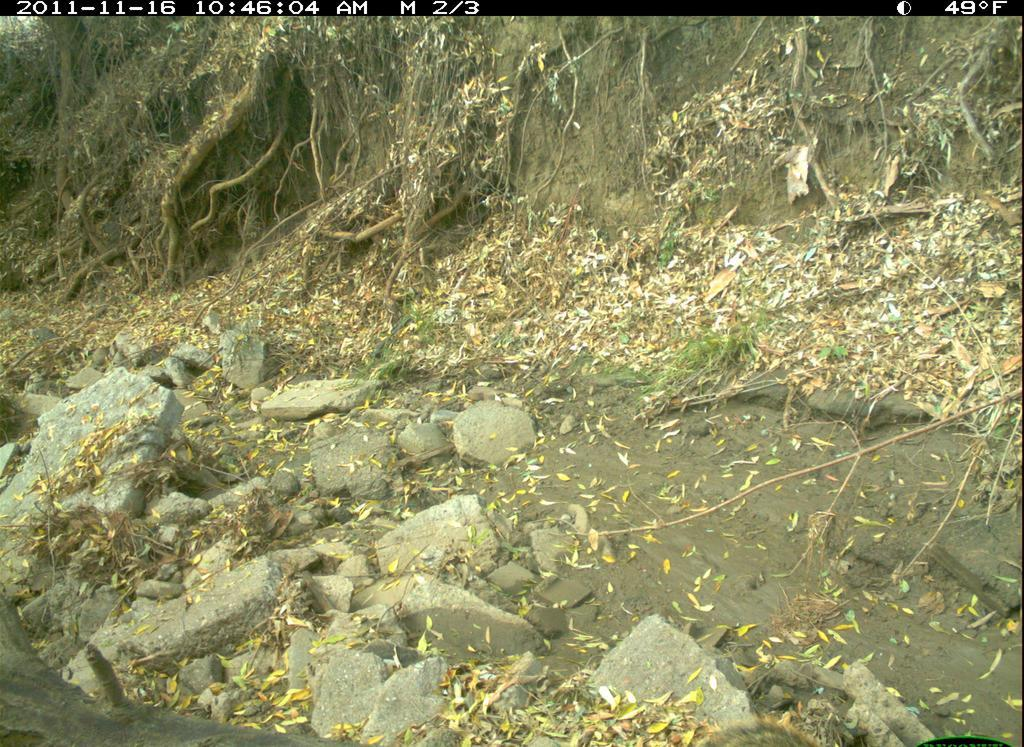squirrel: (687, 712, 834, 747)
